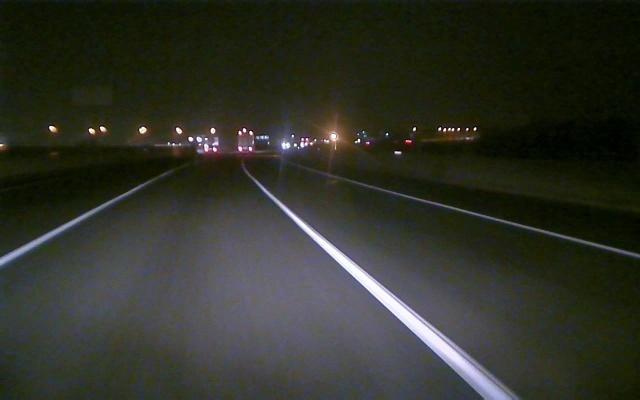lane: (256, 182, 517, 399), (349, 178, 640, 258), (1, 177, 156, 268)
